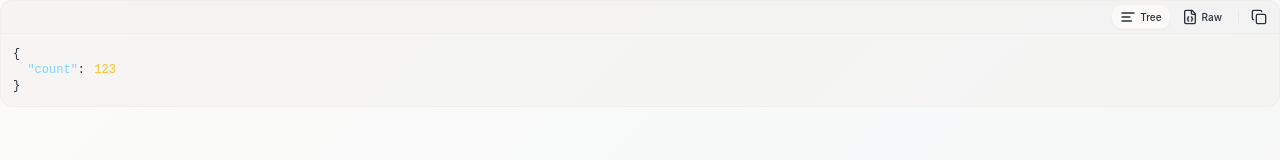
Test case: JsonResponseExporter › triggers setActiveField when clicking on a number value
Click the text "123": (105, 70) [94,63,116,77]
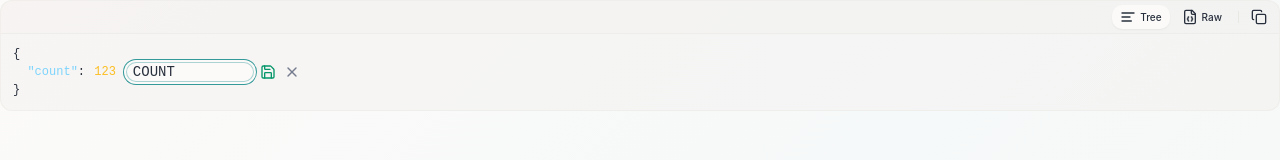
Expected: the field showing "COUNT" is shown, [126,62,254,82]
